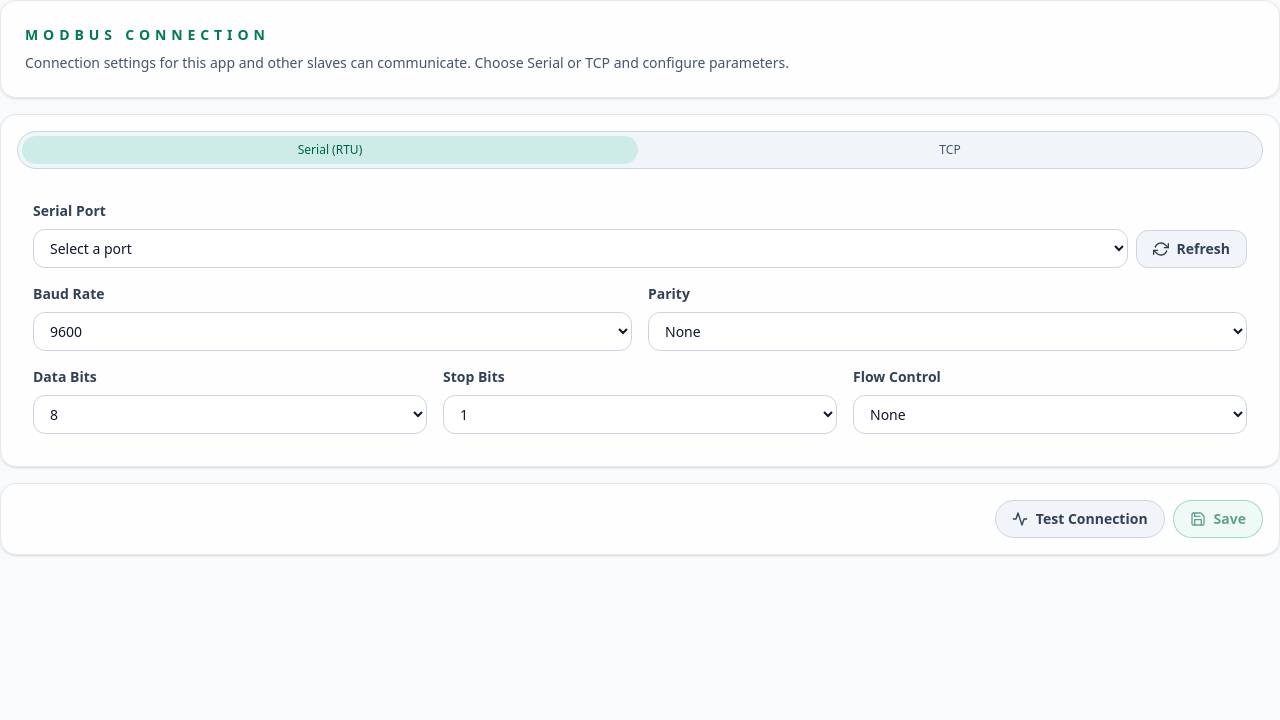
ConnectionPage › shows error when test connection fails
The width and height of the screenshot is (1280, 720).
Expected: the text "Modbus Connection" is shown, left=25, top=25, right=270, bottom=44
Click the button "Test Connection" at (1080, 519), box left=995, top=500, right=1164, bottom=538
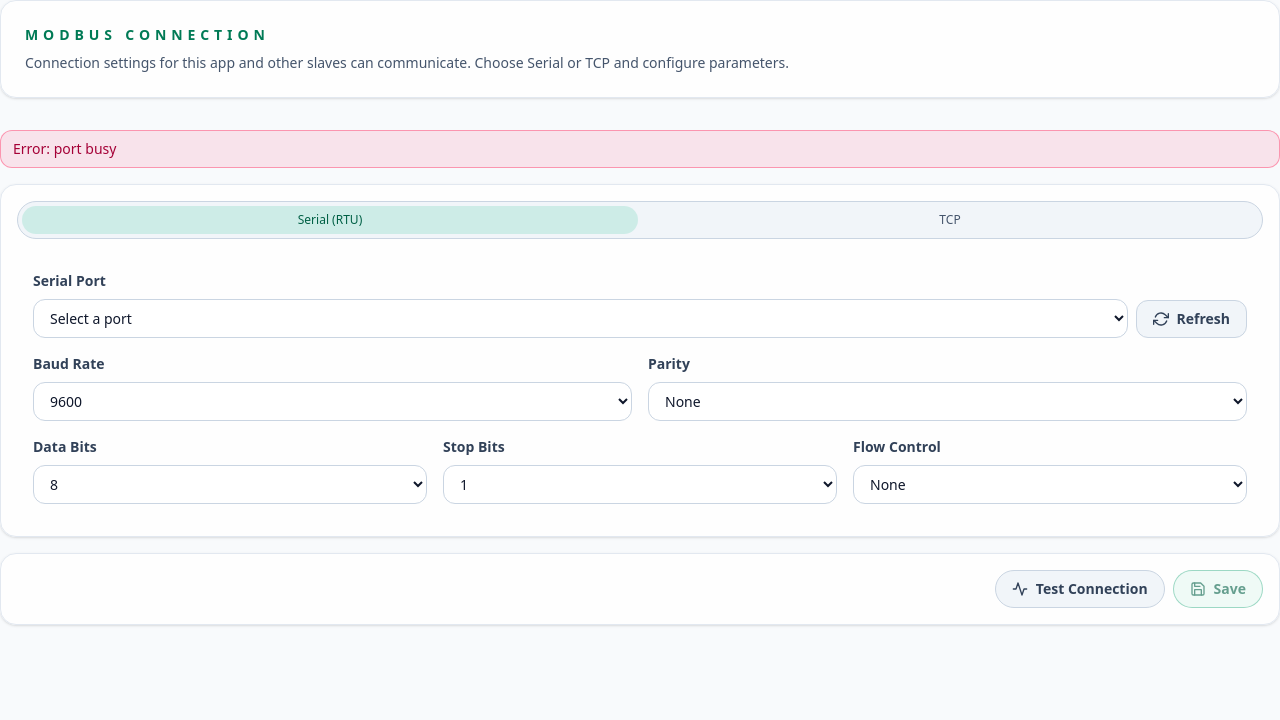
Expected: the text "Error: port busy" is shown, left=0, top=130, right=1279, bottom=168
